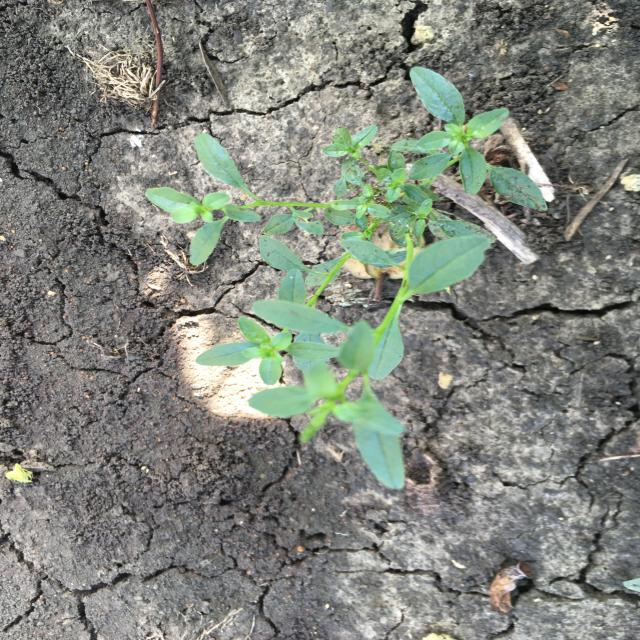Waterhemp: (143, 65, 549, 492)
